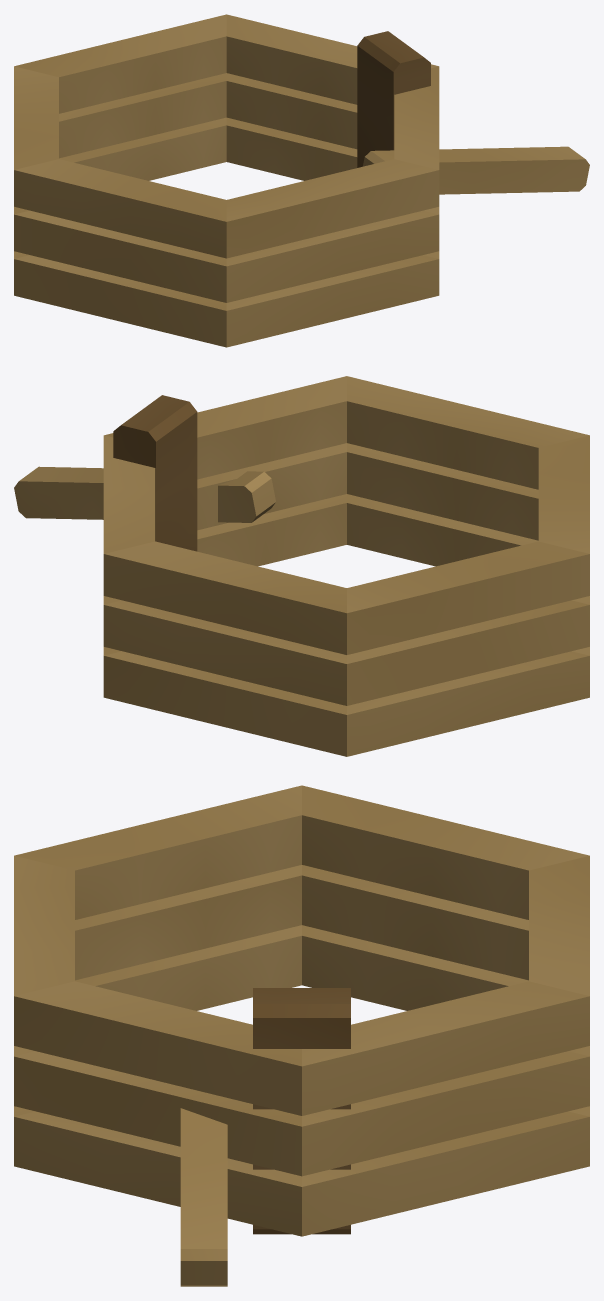
The picture shows the model from 3 angles, top to bottom: view 1: azimuth 30°, elevation 25°; view 2: azimuth 150°, elevation 25°; view 3: azimuth 270°, elevation 25°; orthographic projection. The views are drawn at different scales.
Parts seen in each view (by area): view 1: cord; view 2: cord; view 3: cord.
Part boxes in pixels (x1,y1,x2,y2): cord: (14, 14, 589, 347); cord: (14, 376, 589, 756); cord: (14, 785, 589, 1286).
Bounding box in the file's own units: 0.147 × 0.045 × 0.1019.
Materials: 2 (2 with a texture image).
